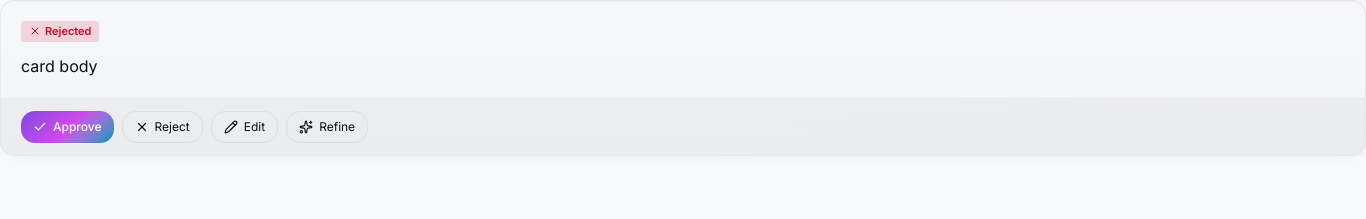
Test: AdReviewCard — review state restored from the API › shows the rejected badge and expands the persisted reason
Click the button with test id "ad-status-rejected" at [60, 31], box [21, 21, 100, 42]
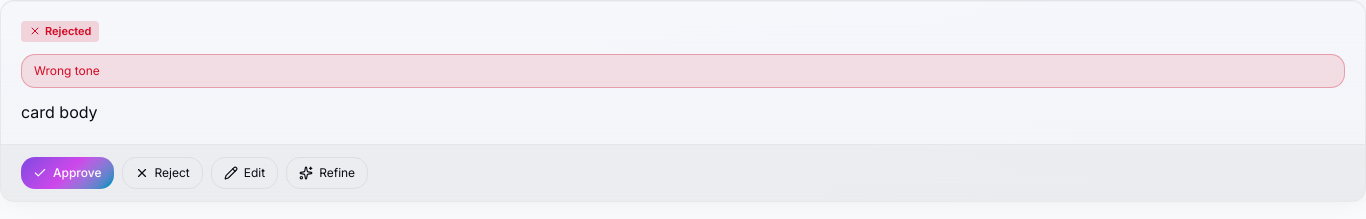
Expected: the text "Wrong tone" is shown, [21, 54, 1345, 88]
Expected: the text with test id "ad-reject-reason" reads "Wrong tone", [34, 62, 100, 78]
